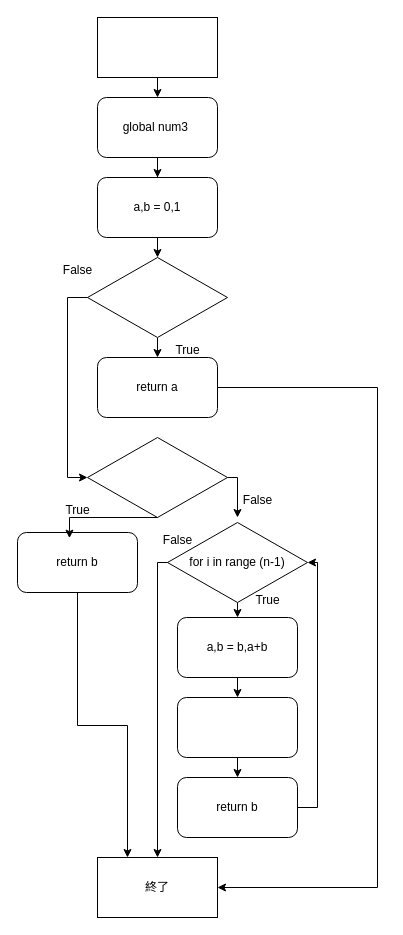
This 403x935 diagram has some shape labels left out. The centre of each missing label's shape, as x and y in pixels:
elif n == 1: the point at 157,477
fibo_tr(n)関数 開始: the point at 157,47
if n == 0: the point at 157,297
num3 +=1: the point at 237,727
